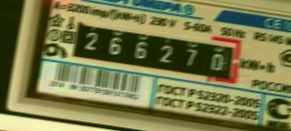0: (207, 51, 224, 73)
2: (82, 30, 98, 53), (157, 43, 173, 65)
6: (106, 35, 121, 57), (132, 40, 148, 60)
7: (183, 47, 196, 68)
screen: (58, 10, 247, 92)
